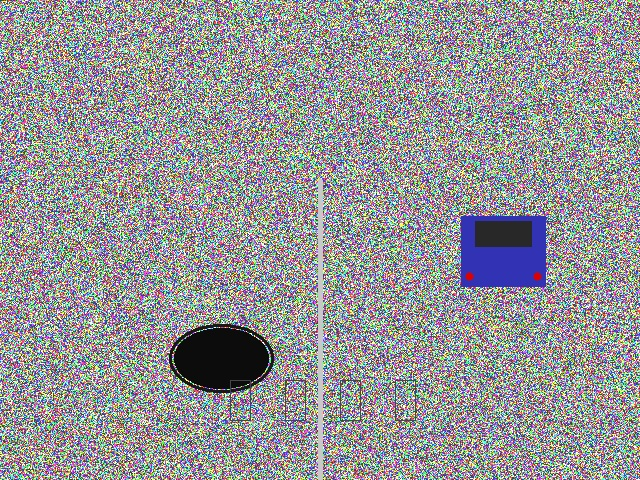no_zebracrossing: (195, 370, 445, 430)
pothole: (174, 328, 268, 388)
vehicle: (461, 216, 545, 287)
